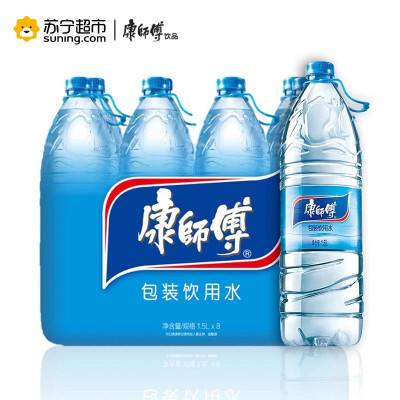amwater: (275, 48, 383, 357)
